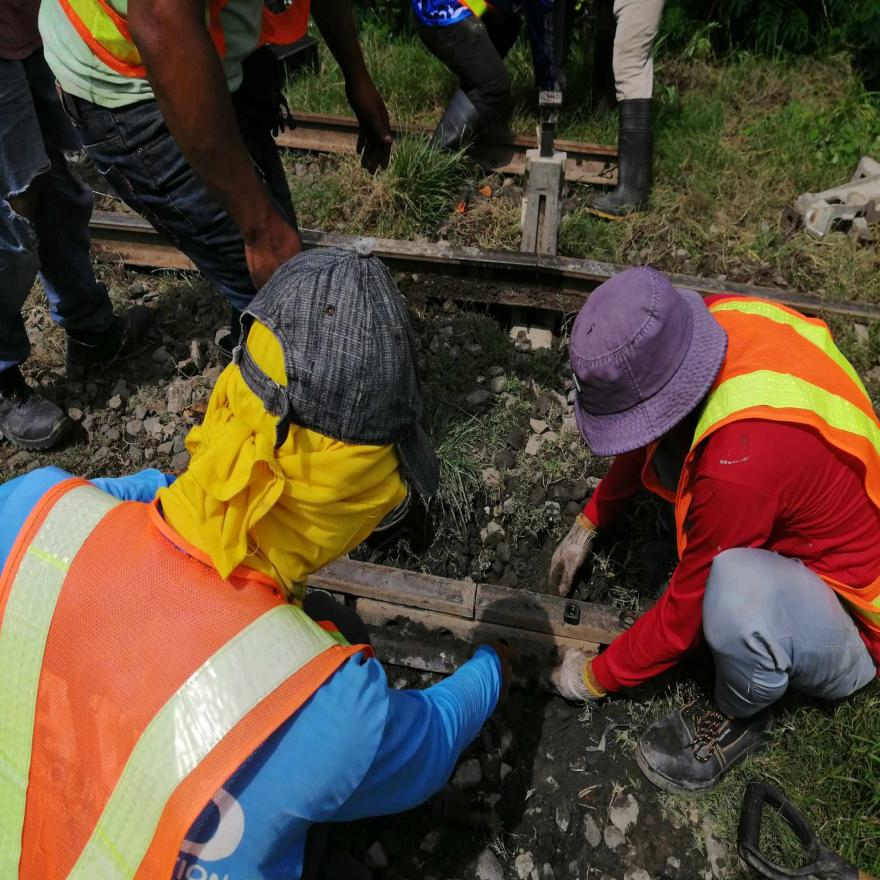railway-gap: (447, 562, 504, 647)
